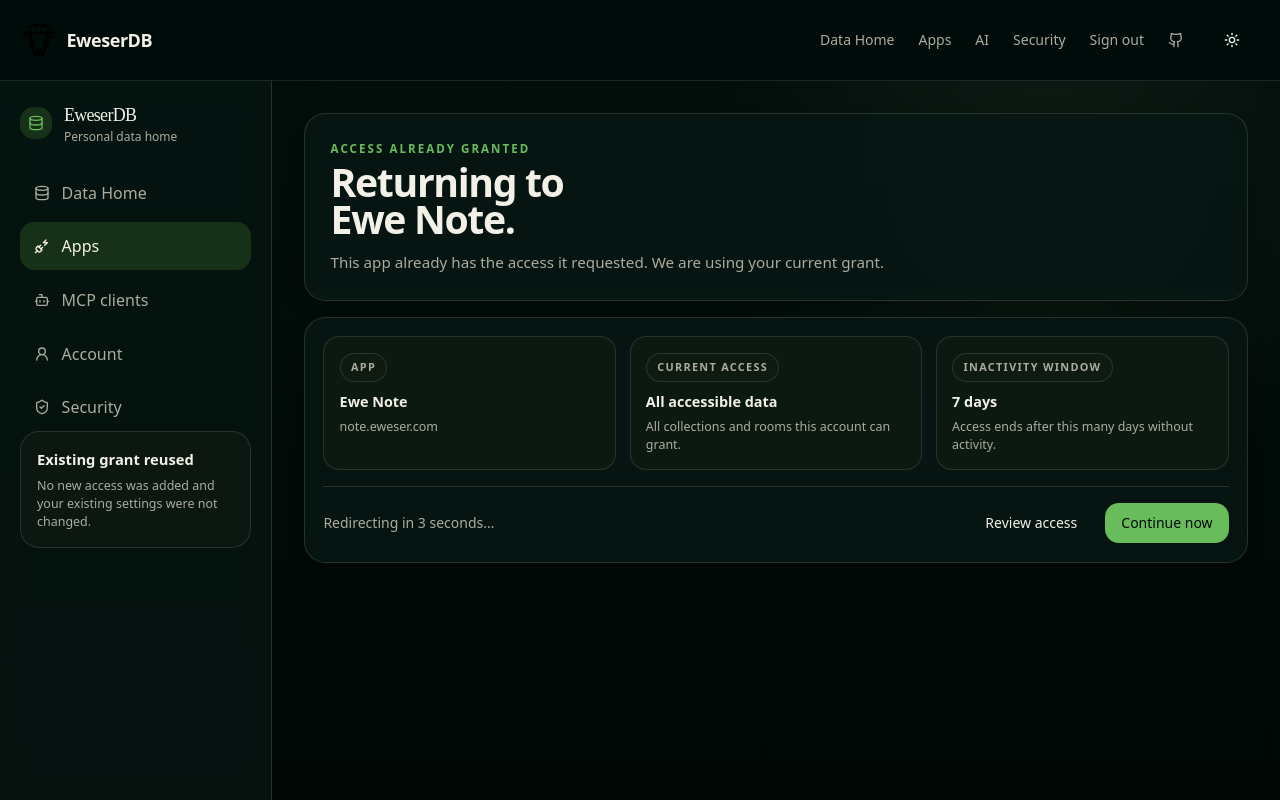
Test case: auth-pages app › reuses an existing app grant and shows its settings before redirecting
The width and height of the screenshot is (1280, 800).
Expected: the heading "Returning to Ewe Note." is shown, [331,155,563,246]
Expected: the text "All accessible data" is shown, [646,392,777,411]
Click the button "Review access" at (1031, 523), box [969,503,1093,543]
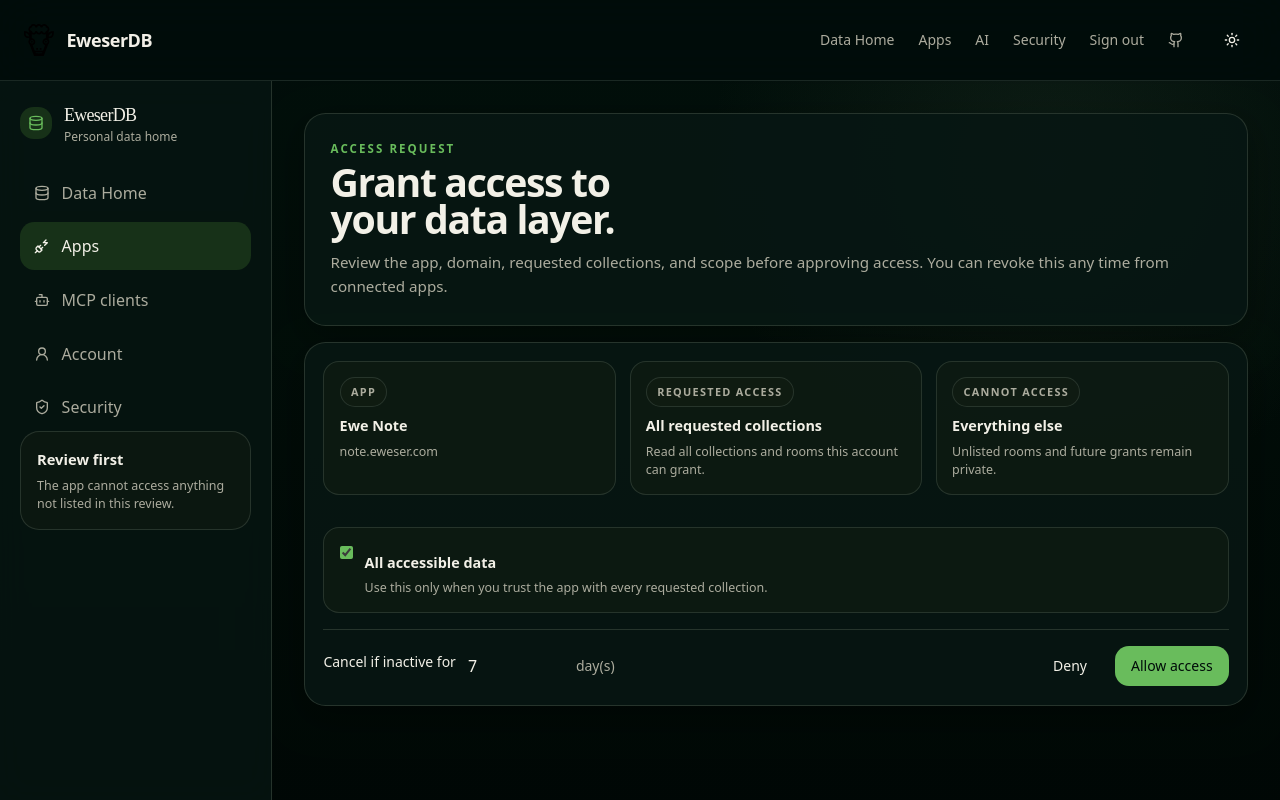
Expected: the heading "Grant access to your data layer." is shown, [331,163,622,238]
Expected: the number field labelled "Cancel if inactive for" holds "7", [468,654,564,678]
